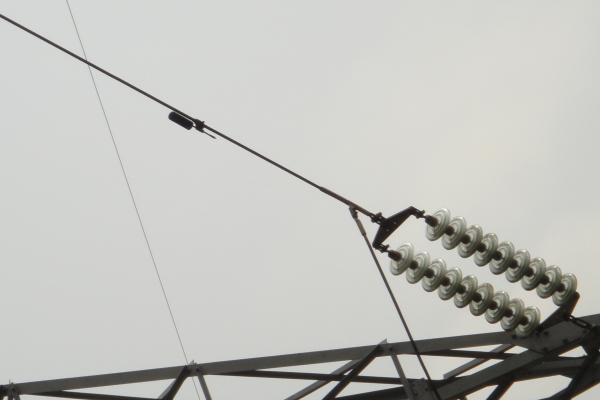damper_defect: (165, 107, 219, 142)
